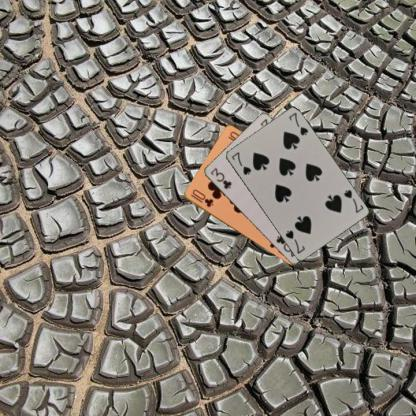10c: (188, 186, 214, 209)
3c: (208, 165, 233, 191)
7s: (229, 149, 252, 176), (341, 188, 364, 214)
